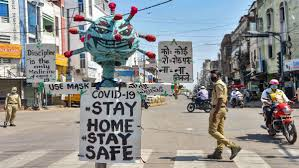mask: (209, 69, 222, 82), (268, 77, 279, 90), (10, 85, 17, 93)
